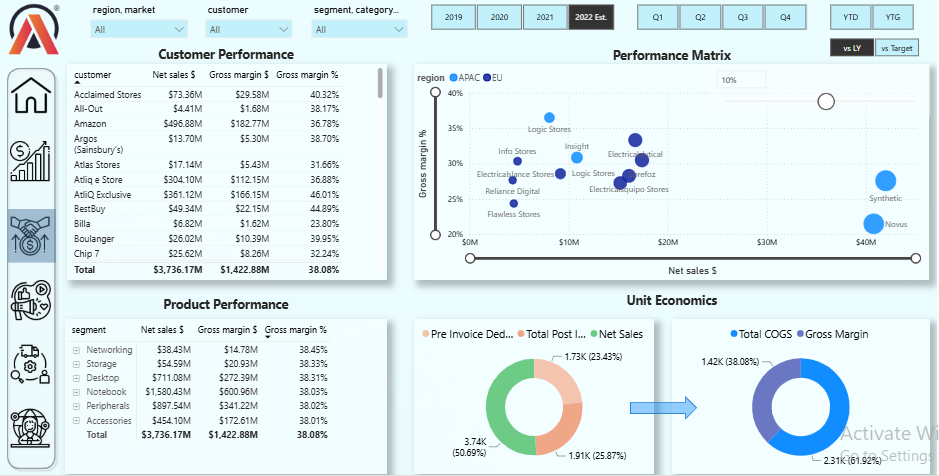

This screenshot's page, from the dashboard's own definition file:
{"tool":"powerbi","page":{"name":"Sales View","canvas":[1400,720],"ordinal":2},"visuals":[{"type":"slicer","fields":{"Values":["Fiscal Year.FY_desc"]},"box":[620,0,321.5,50.8],"z":0},{"type":"slicer","fields":{"Values":["dim_date.Quarter"]},"box":[926.2,0,301.5,50.8],"z":1000},{"type":"slicer","fields":{"Values":["dim_date.YTD_YTG"]},"box":[1215.4,0,173.8,50.8],"z":2000},{"type":"textbox","box":[98.5,63.1,480,40],"z":3000},{"type":"slicer","fields":{"Values":["dim_market.region","dim_market.market"]},"box":[126.2,1.9,164.6,63.1],"z":4000},{"type":"slicer","fields":{"Values":["dim_customer.customer"]},"box":[299.2,1.9,149.2,63.1],"z":5000},{"type":"slicer","fields":{"Values":["dim_product.segment","dim_product.category","dim_product.product"]},"box":[456.9,1.9,163.1,63.1],"z":6000},{"type":"image","box":[4.6,4.6,96.9,76.9],"z":7000},{"type":"textbox","box":[620,64.6,769.2,40],"z":8000},{"type":"textbox","box":[620,429.2,769.2,40],"z":9000},{"type":"textbox","box":[98.5,435.4,480,40],"z":10000},{"type":"tableEx","fields":{"Values":["dim_customer.customer","Key Measures.Net sales $","Key Measures.Gross margin $","Key Measures.Gross margin %"]},"box":[101.5,95.4,476.9,321.5],"z":11000},{"type":"pivotTable","fields":{"Rows":["dim_product.segment","dim_product.category","dim_product.product"],"Values":["Key Measures.Net sales $","Key Measures.Gross margin $","Key Measures.Gross margin %"]},"box":[98.5,475.4,480,230.8],"z":12000},{"type":"shape","box":[6.2,95.4,84.6,610.8],"z":13000},{"type":"image","box":[16.9,323.1,60,60],"z":14000},{"type":"image","box":[16.9,418.5,61.5,60],"z":15000},{"type":"image","box":[16.9,210.8,60,60],"z":16000},{"type":"image","box":[16.9,609.2,60,60],"z":17000},{"type":"image","box":[16.9,513.8,60,60],"z":18000},{"type":"image","box":[18.5,112.3,60,60],"z":19000},{"type":"shape","box":[13.3,311.7,71.7,80],"z":20000},{"type":"scatterChart","fields":{"Category":["dim_market.market","dim_customer.customer"],"Series":["dim_market.region"],"Size":["Key Measures.Net sales $"],"X":["Key Measures.Net sales $"],"Y":["Key Measures.Gross margin %"]},"box":[620,95.4,769.2,321.5],"z":21000},{"type":"donutChart","fields":{"Series":["P & L Rows.Description"],"Y":["Key Measures.P & L Values"]},"box":[620,475.4,358.5,230.8],"z":22000},{"type":"donutChart","fields":{"Series":["P & L Rows.Description"],"Y":["Key Measures.P & L Values"]},"box":[1004.6,475.4,384.6,230.8],"z":23000},{"type":"shape","box":[941.5,590.8,100,35.4],"z":24000},{"type":"slicer","fields":{"Values":["Target ga tolerance.Target ga tolerance"]},"box":[1058.3,95,331.7,76.7],"z":25000},{"type":"slicer","fields":{"Values":["Set BM.Benchmarks"]},"box":[1215,50,181.7,36.7],"z":26000}]}

Visuals, with their boxes on the page's 1400x720 design canvas (x1, y1, x2, y2). These are canvas units, not pixel positions in the 939x476 screenshot, which may show the page scaled, cropped or inside an application window:
slicer - Fiscal Year.FY_desc: BBox(620, 0, 942, 51)
slicer - dim_date.Quarter: BBox(926, 0, 1228, 51)
slicer - dim_date.YTD_YTG: BBox(1215, 0, 1389, 51)
textbox: BBox(98, 63, 578, 103)
slicer - dim_market.region x dim_market.market: BBox(126, 2, 291, 65)
slicer - dim_customer.customer: BBox(299, 2, 448, 65)
slicer - dim_product.segment x dim_product.category: BBox(457, 2, 620, 65)
image: BBox(5, 5, 102, 82)
textbox: BBox(620, 65, 1389, 105)
textbox: BBox(620, 429, 1389, 469)
textbox: BBox(98, 435, 578, 475)
tableEx - dim_customer.customer x Key Measures.Net sales $: BBox(102, 95, 578, 417)
pivotTable - dim_product.segment x dim_product.category: BBox(98, 475, 578, 706)
shape: BBox(6, 95, 91, 706)
image: BBox(17, 323, 77, 383)
image: BBox(17, 418, 78, 478)
image: BBox(17, 211, 77, 271)
image: BBox(17, 609, 77, 669)
image: BBox(17, 514, 77, 574)
image: BBox(18, 112, 78, 172)
shape: BBox(13, 312, 85, 392)
scatterChart - dim_market.market x dim_customer.customer: BBox(620, 95, 1389, 417)
donutChart - P & L Rows.Description x Key Measures.P & L Values: BBox(620, 475, 978, 706)
donutChart - P & L Rows.Description x Key Measures.P & L Values: BBox(1005, 475, 1389, 706)
shape: BBox(942, 591, 1042, 626)
slicer - Target ga tolerance.Target ga tolerance: BBox(1058, 95, 1390, 172)
slicer - Set BM.Benchmarks: BBox(1215, 50, 1397, 87)
